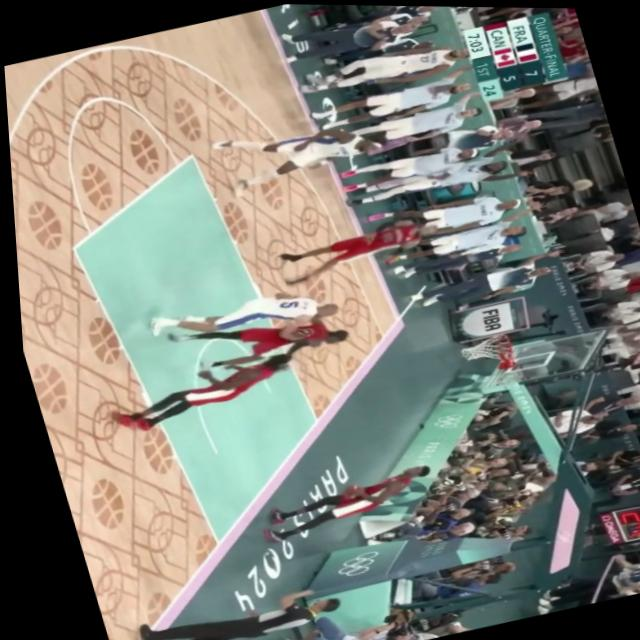ball_handler: (234, 454, 439, 552)
